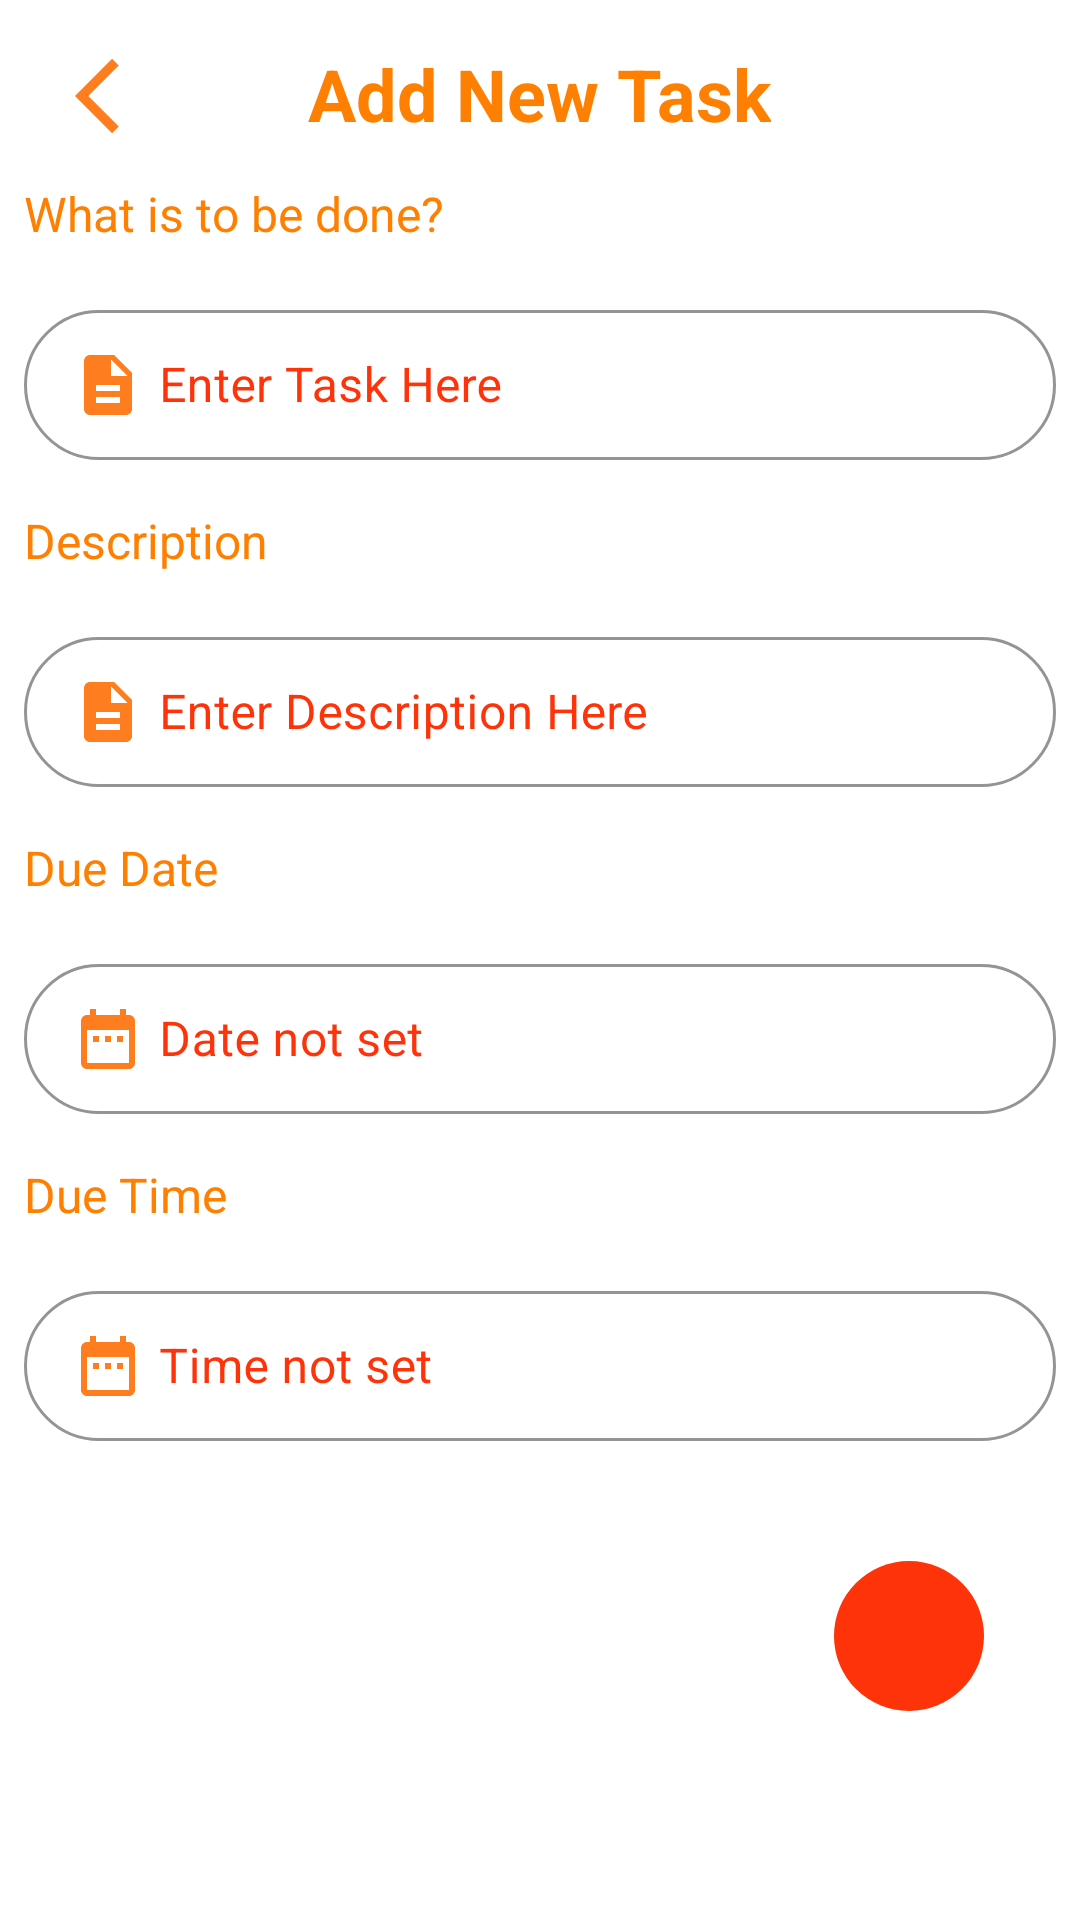

Locate icon controls on the screen. Image size 1080 x 1920, boxes as box=[x1, y1, x2, y2].
arrow back: box=[75, 59, 119, 133]
